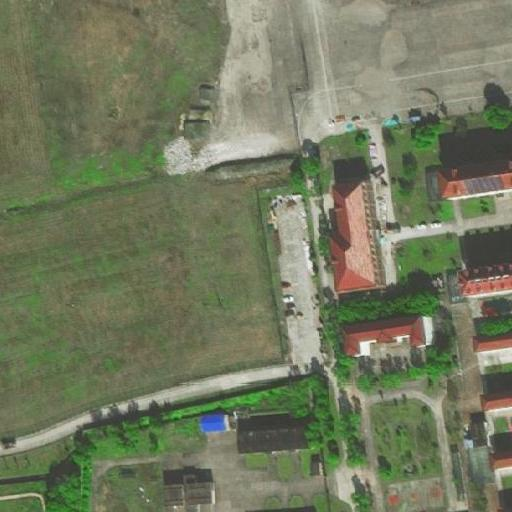building: (330, 175, 386, 295), (345, 307, 434, 350), (432, 157, 512, 200), (239, 420, 311, 452), (458, 264, 512, 299), (170, 475, 211, 502), (476, 331, 512, 358), (481, 385, 510, 415), (490, 442, 511, 473), (198, 412, 229, 433)
